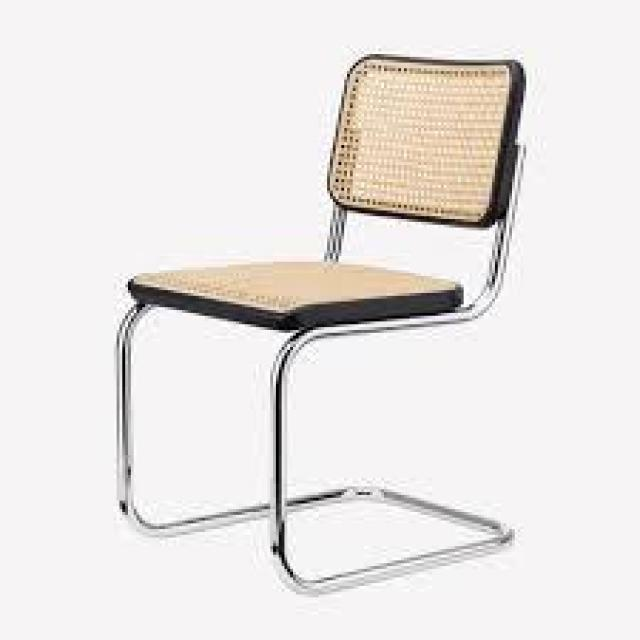chair: (63, 47, 529, 582)
